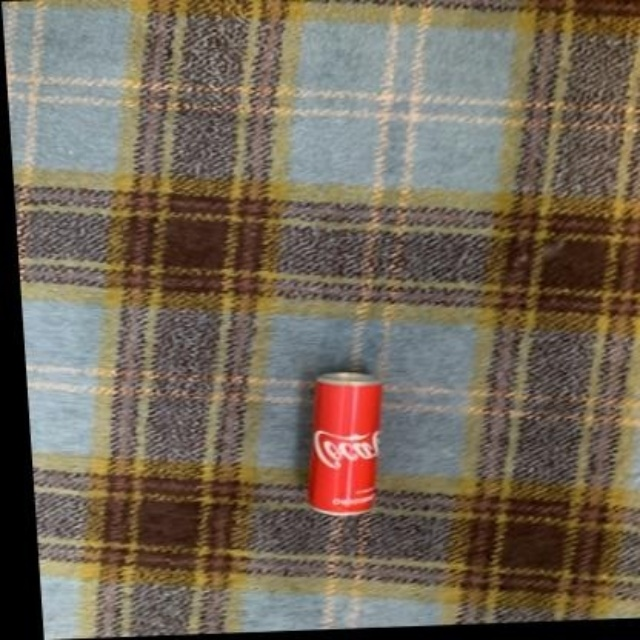trash: (308, 372, 380, 514)
